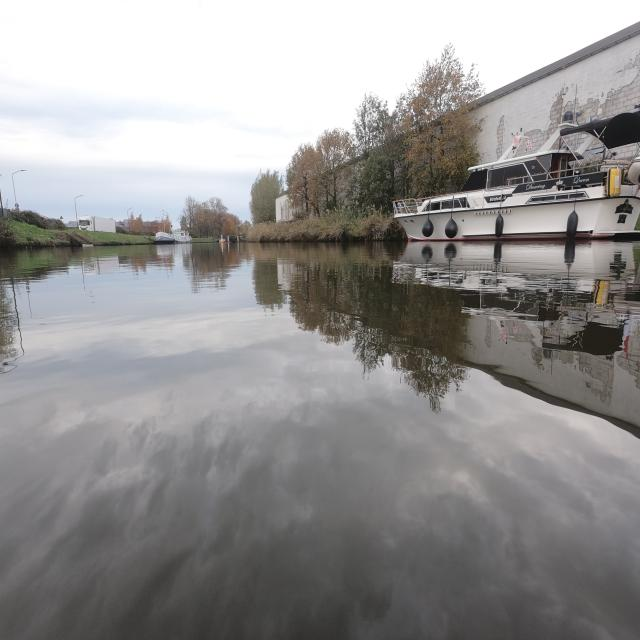boat: (394, 153, 640, 242)
grass: (0, 220, 153, 248)
reed: (246, 207, 406, 242)
tree: (285, 44, 483, 219), (399, 44, 482, 196)
water: (0, 241, 640, 639)
